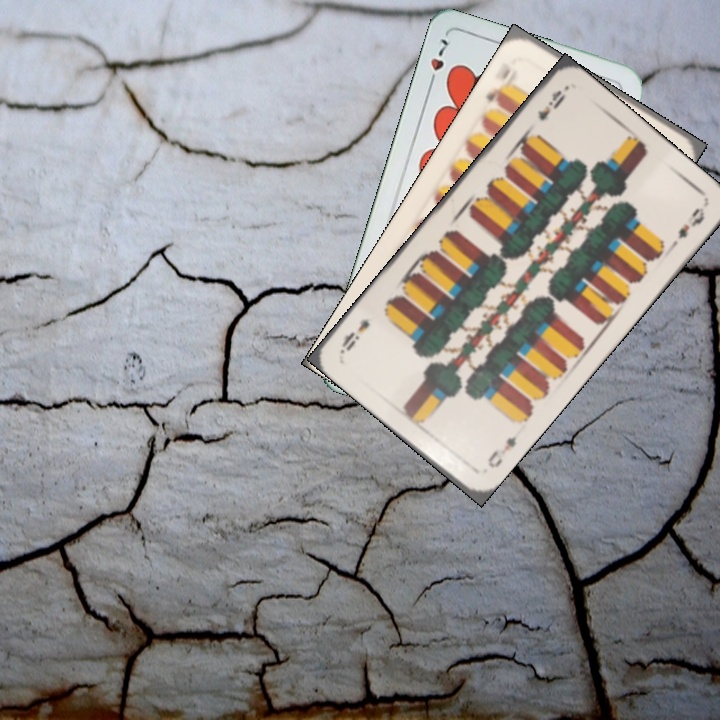E10: (481, 65, 520, 109)
E9: (483, 432, 520, 471), (533, 86, 569, 124)
H7: (424, 34, 451, 90)
